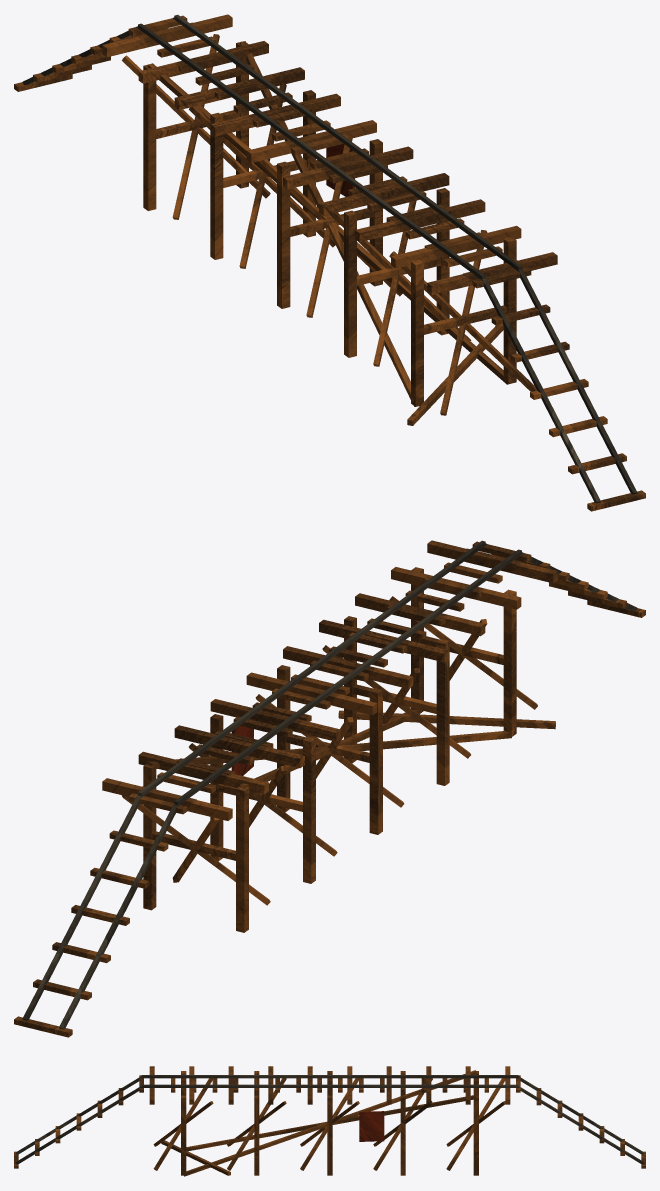
File: trestle-crossing.glb
3 views of the same model, one above another, from view 1: azimuth 30°, elevation 25°; view 2: azimuth 150°, elevation 25°; view 3: azimuth 270°, elevation 25° (orthographic). The views are drawn at different scales.
Visible parts, largest first — view 1: trestle-crossing; view 2: trestle-crossing; view 3: trestle-crossing.
Boxes of the visible parts, x1,y1,x2,y2 form: trestle-crossing: [14, 14, 645, 511]; trestle-crossing: [14, 540, 645, 1037]; trestle-crossing: [14, 1066, 645, 1176].
Size of the model in its own units: 4.8 by 4.4 by 30.22.
Materials: 1 (1 with a texture image).
